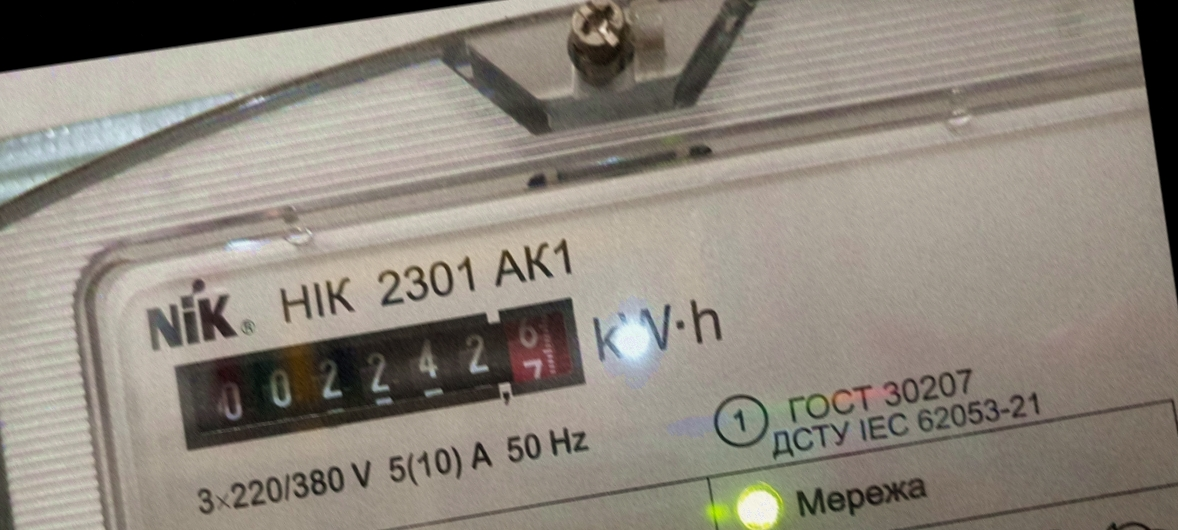0: (266, 362, 297, 408), (317, 353, 346, 399), (219, 375, 247, 422)
2: (462, 328, 493, 375), (365, 346, 395, 393)
4: (413, 334, 443, 380)
6: (515, 312, 543, 348)
7: (522, 354, 548, 380)
screen: (163, 282, 607, 465)
